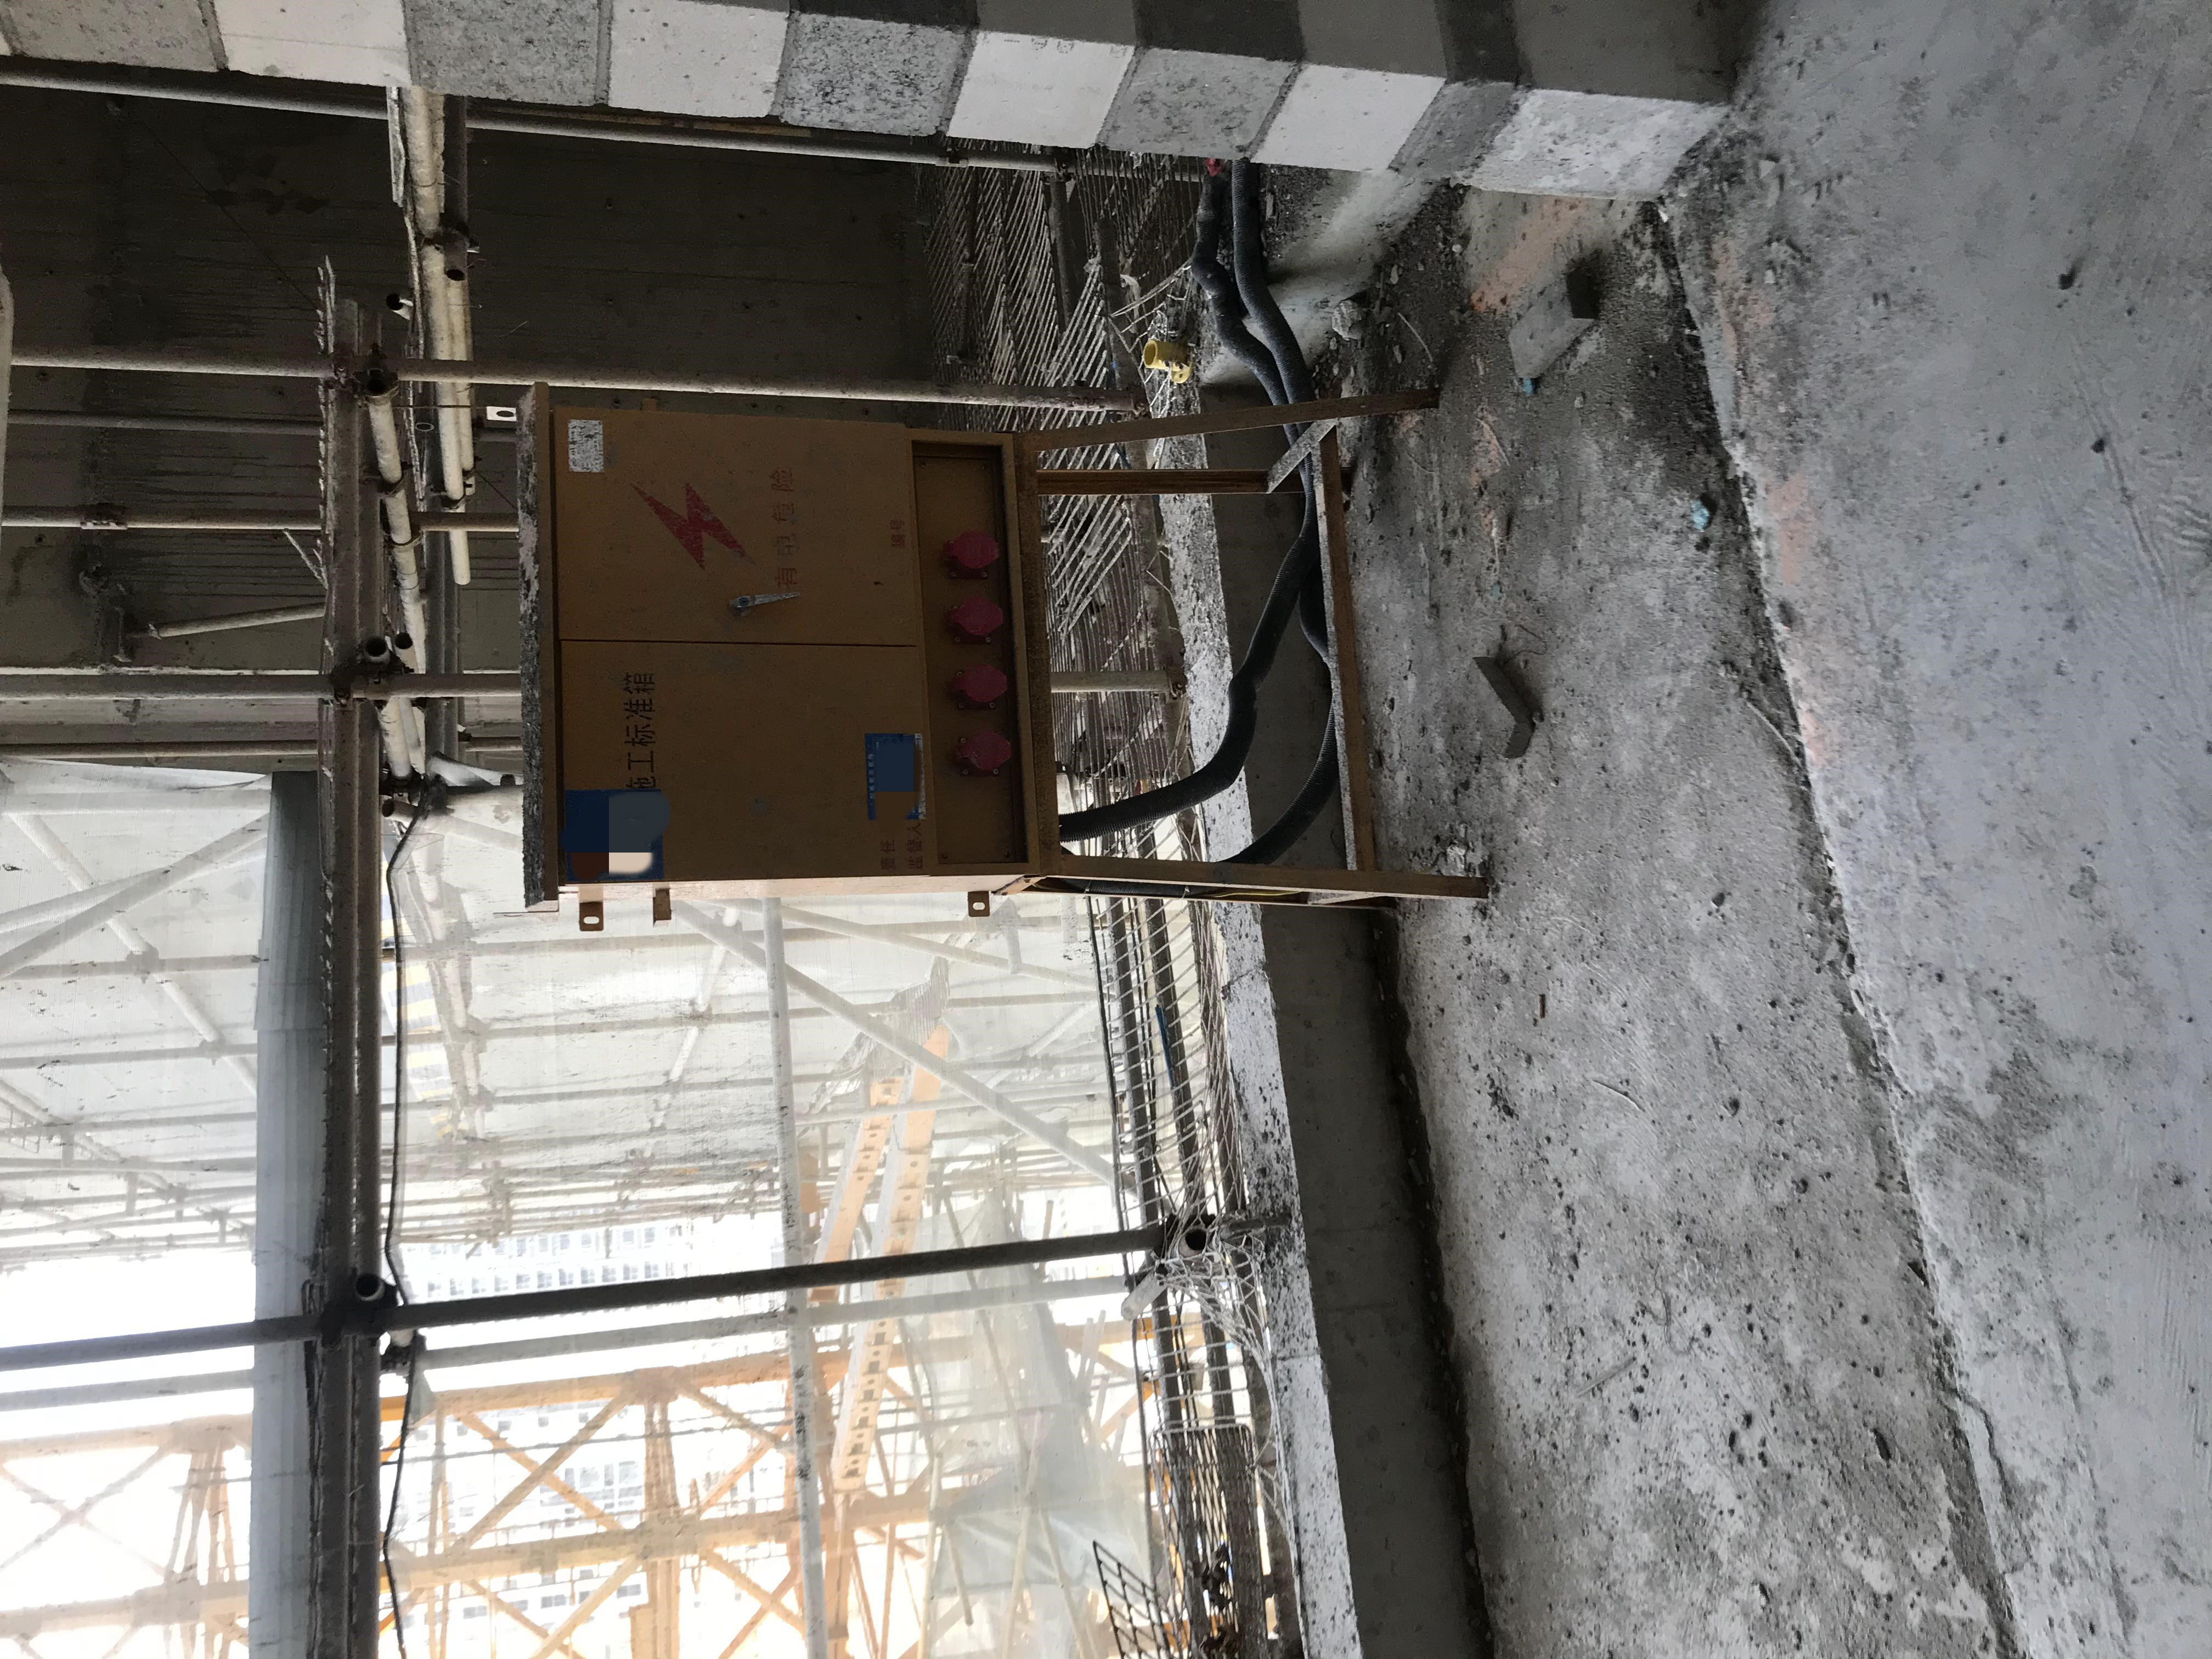ebox: (482, 342, 1529, 950)
